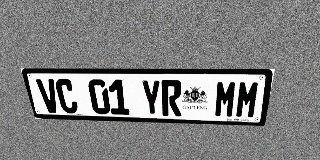0: (87, 79, 111, 114)
1: (107, 79, 130, 115)
C: (54, 79, 79, 113)
M: (235, 81, 261, 118), (214, 80, 238, 118)
R: (161, 80, 182, 116)
V: (35, 79, 61, 113)
Y: (140, 80, 162, 116)
